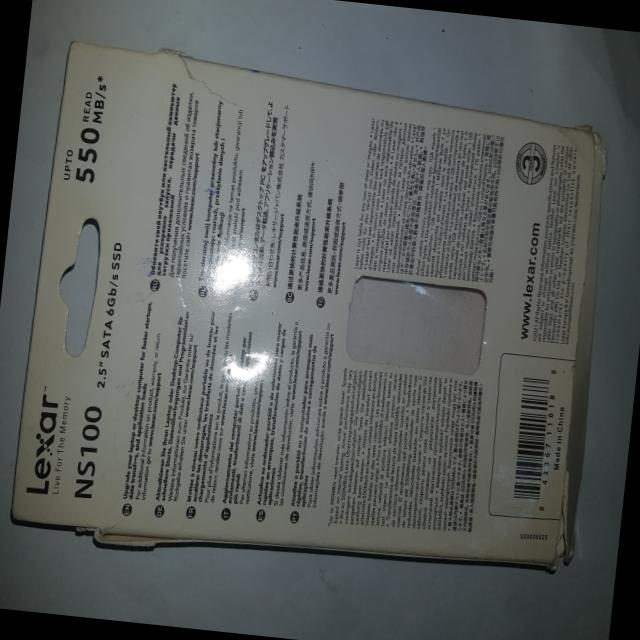electronic: (8, 36, 622, 588)
